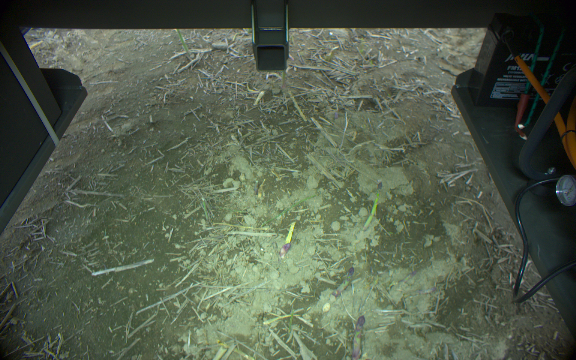aspa: (363, 180, 382, 232), (332, 265, 354, 298), (352, 315, 366, 360), (287, 90, 306, 122), (279, 219, 295, 255), (174, 29, 192, 60), (280, 70, 288, 92)
